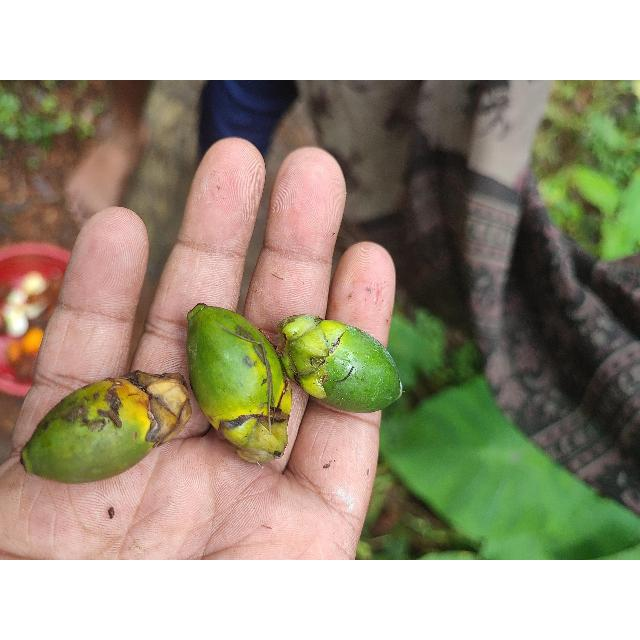damaged: (20, 371, 192, 484), (185, 304, 292, 466), (281, 317, 402, 415)
